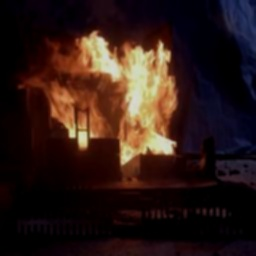fire: (32, 24, 181, 160)
